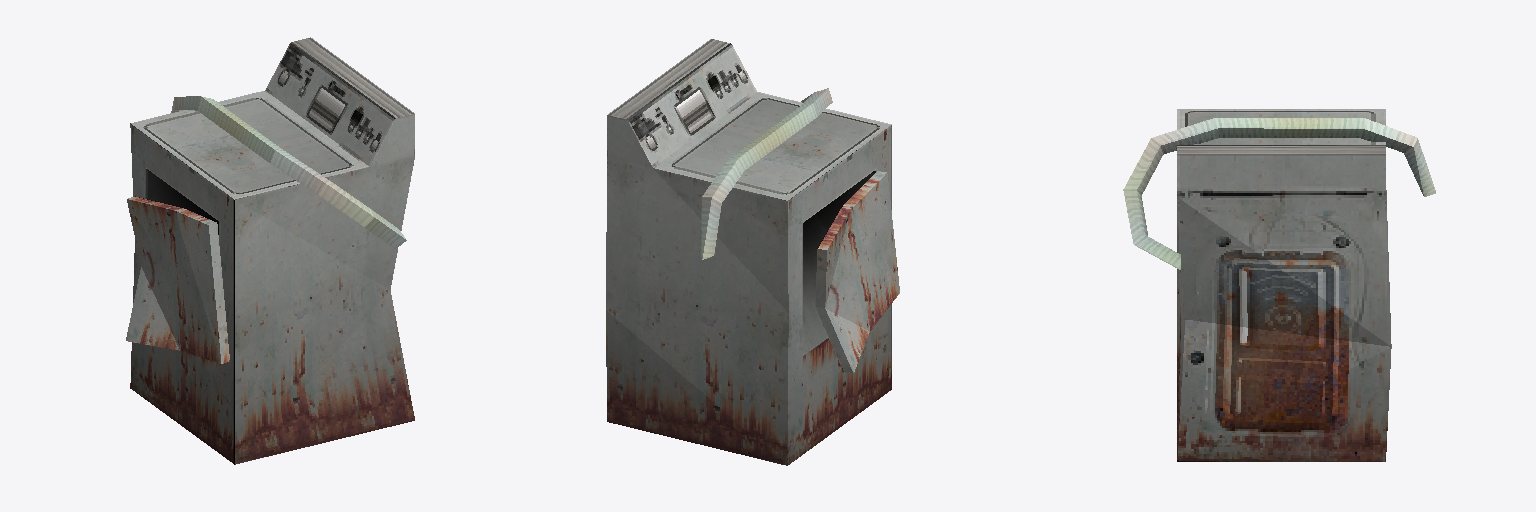
3 renders of one model, left to right at view 1: azimuth 30°, elevation 25°; view 2: azimuth 150°, elevation 25°; view 3: azimuth 270°, elevation 25°, orthographic.
Visible parts, largest first — view 1: Wash; view 2: Wash; view 3: Wash.
Boxes of the visible parts, x1=… form: Wash: x1=126, y1=37, x2=414, y2=464; Wash: x1=606, y1=39, x2=899, y2=465; Wash: x1=1123, y1=109, x2=1435, y2=461.
Size of the model in its own units: 2.39 by 3.25 by 3.
Materials: 1 (1 with a texture image).